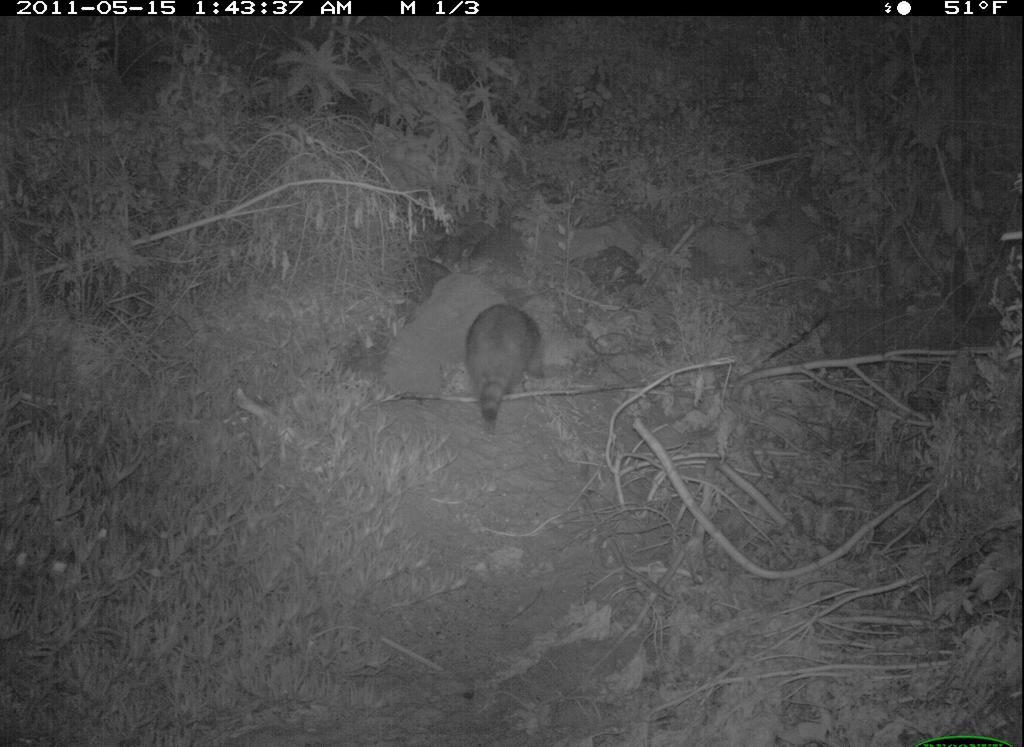raccoon: (457, 297, 551, 434)
